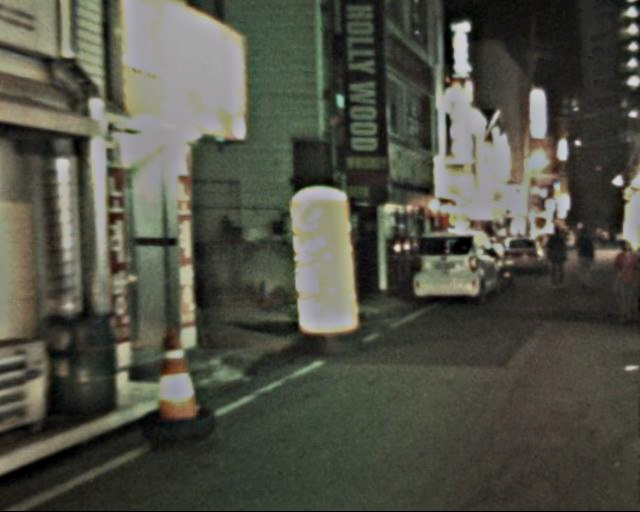person: (610, 237, 640, 320), (545, 224, 579, 295), (572, 225, 603, 294)
